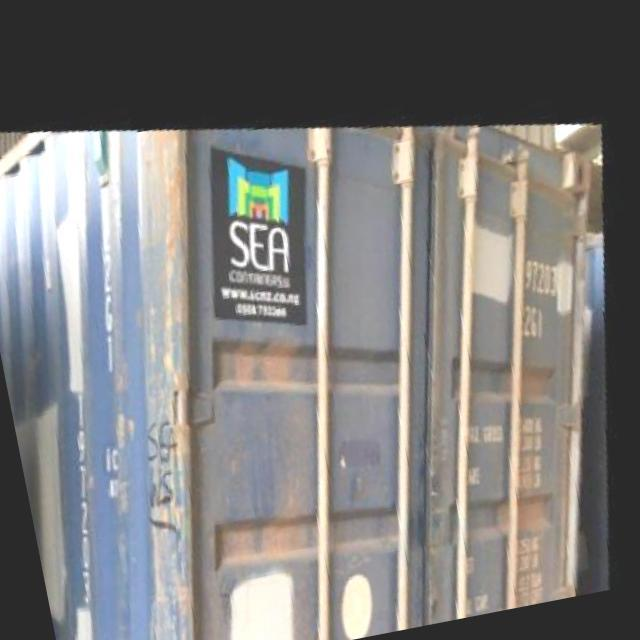rust: (115, 382, 215, 551), (123, 126, 216, 273), (211, 502, 329, 571), (219, 320, 308, 398), (474, 471, 568, 538), (490, 345, 559, 396)
